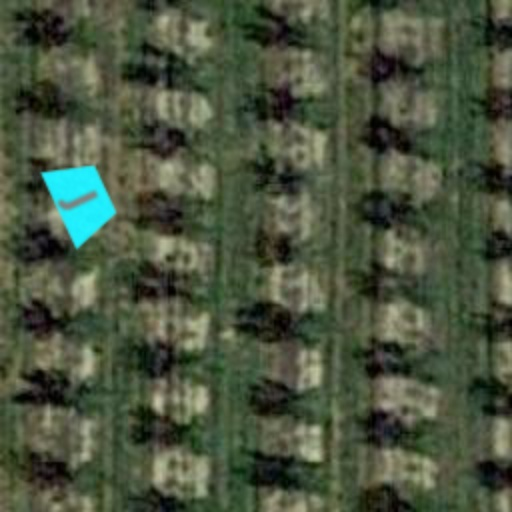trapezoid: (24, 142, 140, 258)
